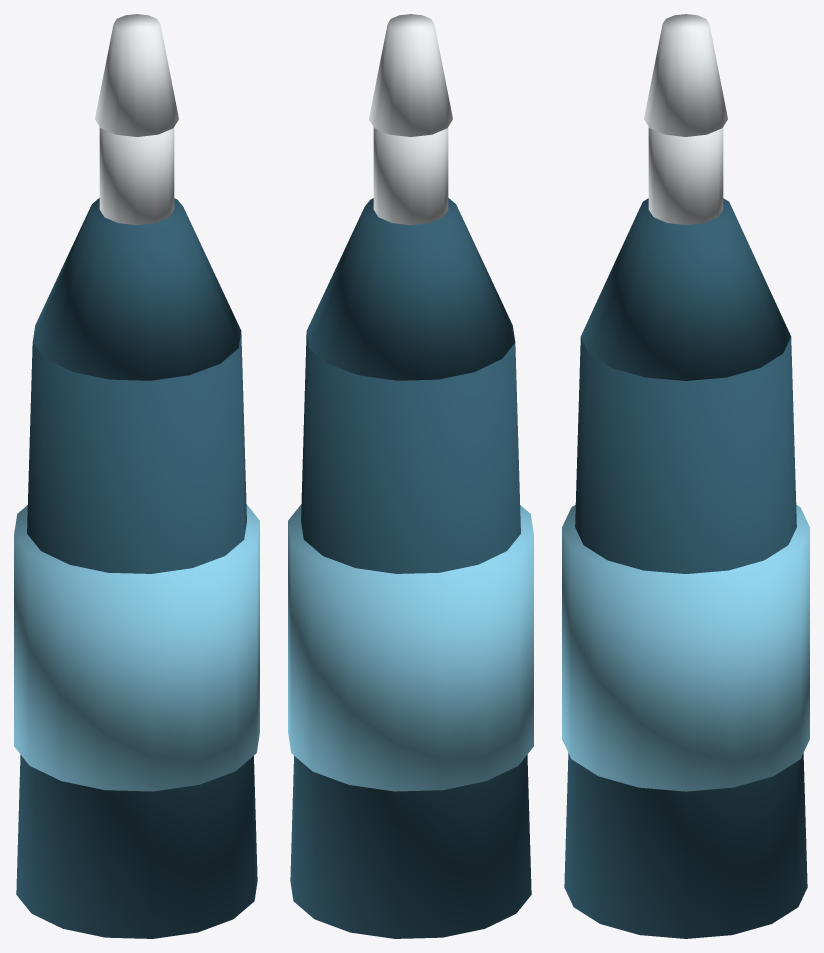
File: lubricant.glb
3 renders of one model, left to right at view 1: azimuth 30°, elevation 25°; view 2: azimuth 150°, elevation 25°; view 3: azimuth 270°, elevation 25°, orthographic.
Parts seen in each view (by area): view 1: lubricant; view 2: lubricant; view 3: lubricant.
Boxes of the visible parts, x1=… form: lubricant: x1=14, y1=14, x2=259, y2=938; lubricant: x1=288, y1=14, x2=533, y2=938; lubricant: x1=562, y1=14, x2=809, y2=938.
Bounding box in the file's own units: 0.106 × 0.4075 × 0.106.
